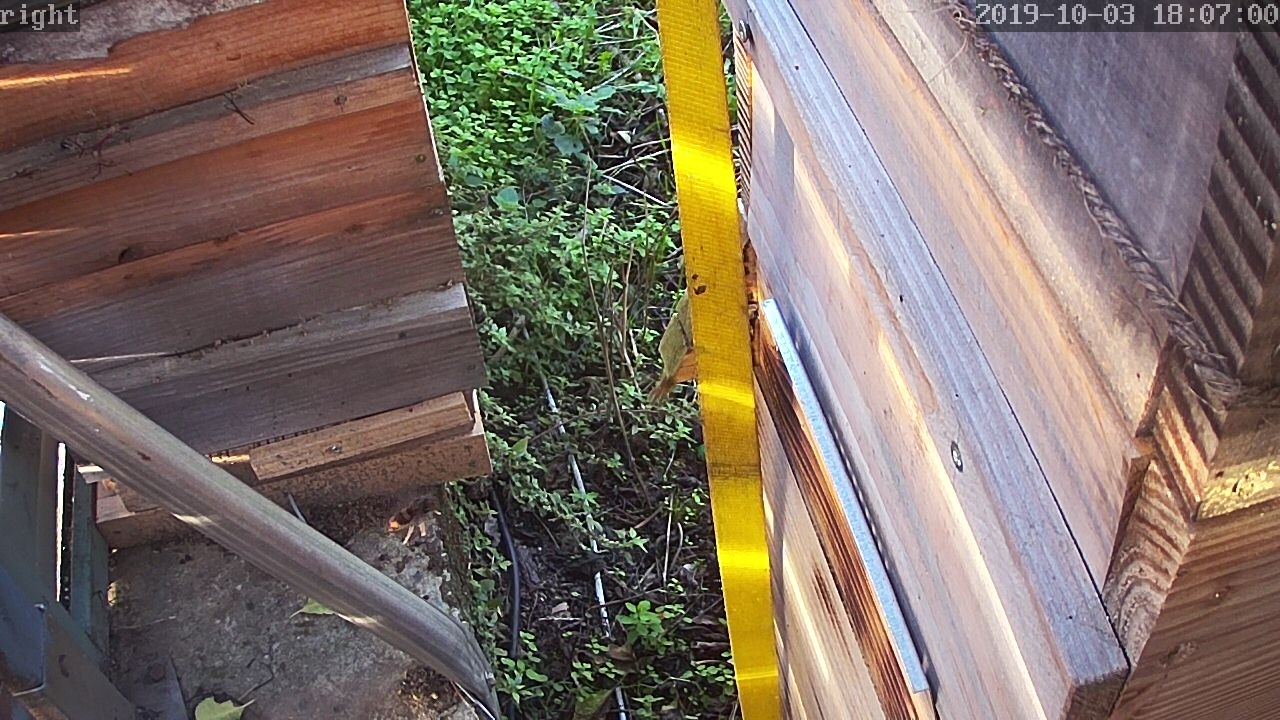hornet: (380, 486, 457, 538)
